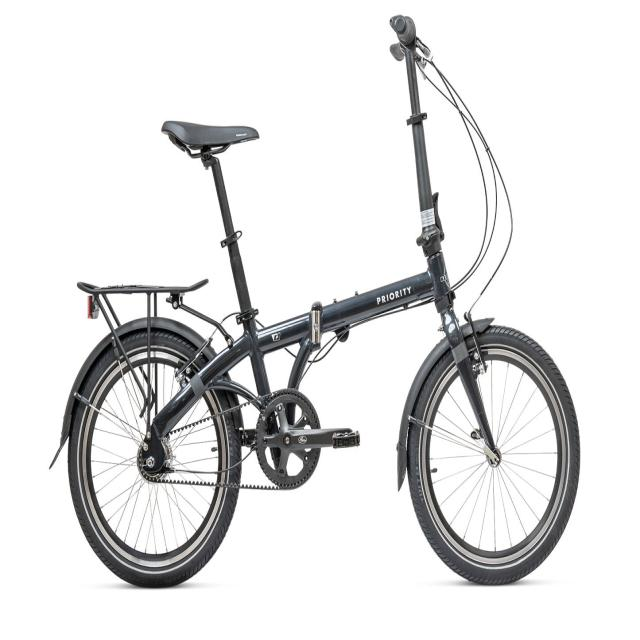folding-bike: (49, 9, 583, 593)
